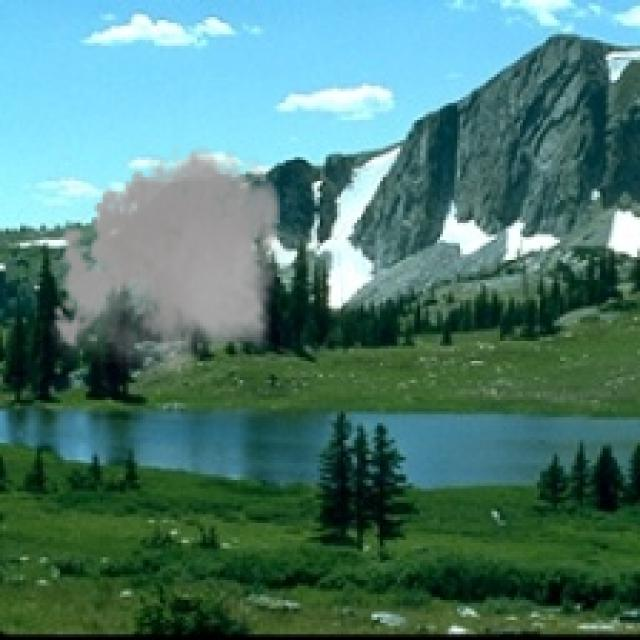smoke: (46, 137, 291, 389)
